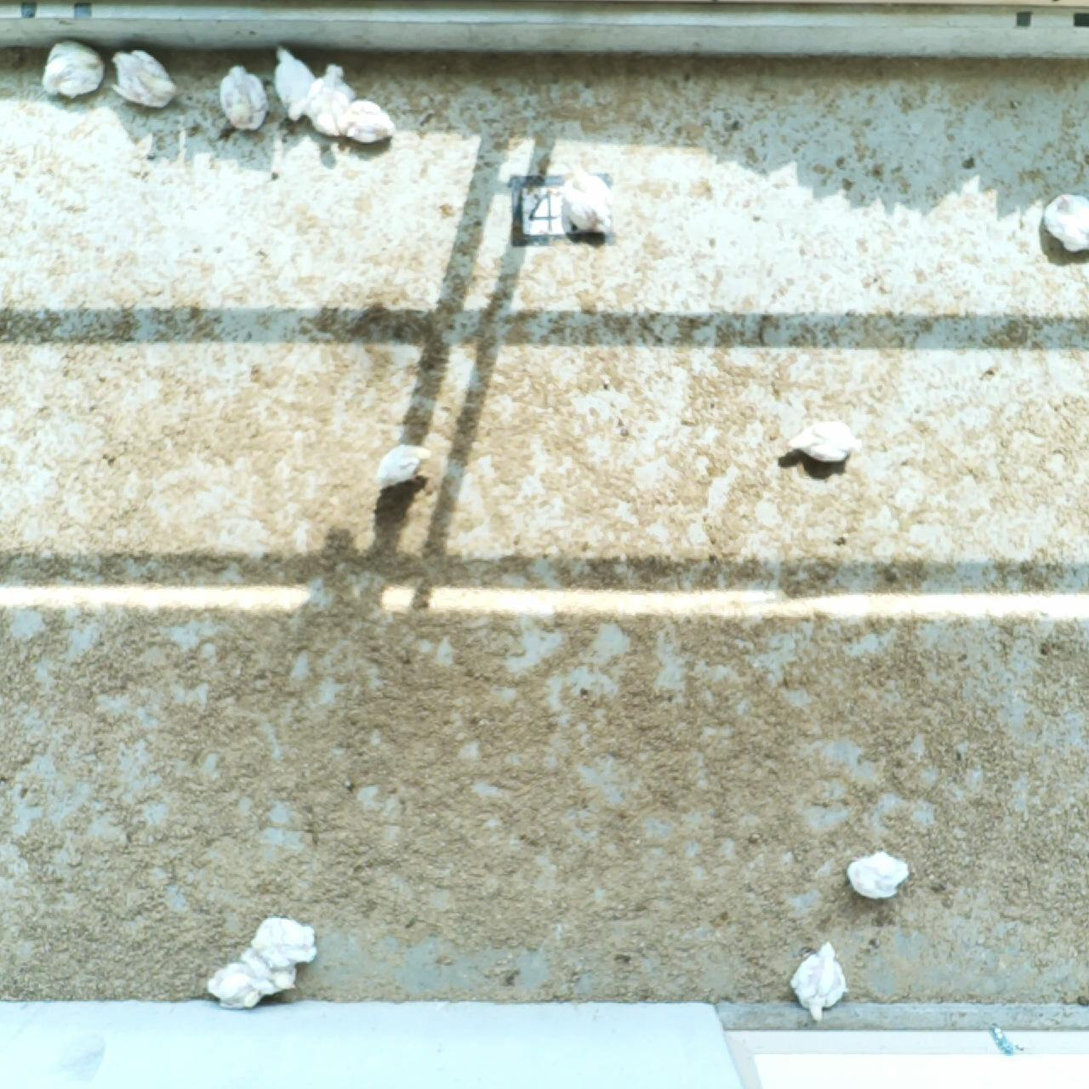chicken: (791, 940, 847, 1023), (114, 48, 176, 108), (563, 165, 611, 237), (41, 43, 102, 99), (252, 918, 317, 969), (218, 66, 267, 131), (275, 46, 316, 123), (310, 66, 351, 137), (1043, 191, 1089, 254), (847, 853, 908, 898), (790, 424, 858, 464), (208, 965, 271, 1006), (244, 949, 299, 991), (377, 445, 428, 490), (341, 100, 393, 143)
